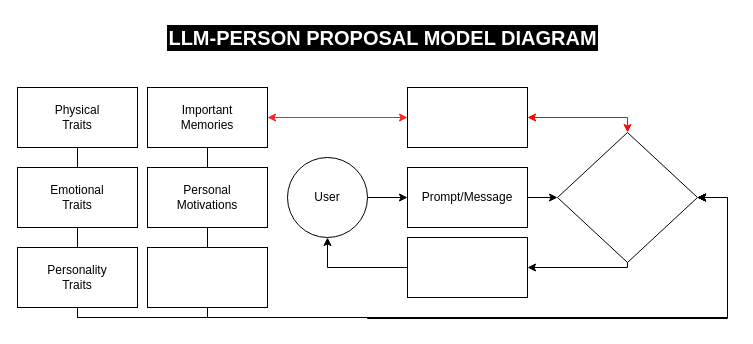
This 753x344 diagram has some shape labels left out. The box of each missing label's shape, as (x1, y1, x2, y2) in pixels:
Active Memory: (406, 86, 528, 148)
LLM-Person: (556, 132, 698, 262)
Personal Background: (146, 246, 268, 308)
Reply: (406, 236, 528, 298)
